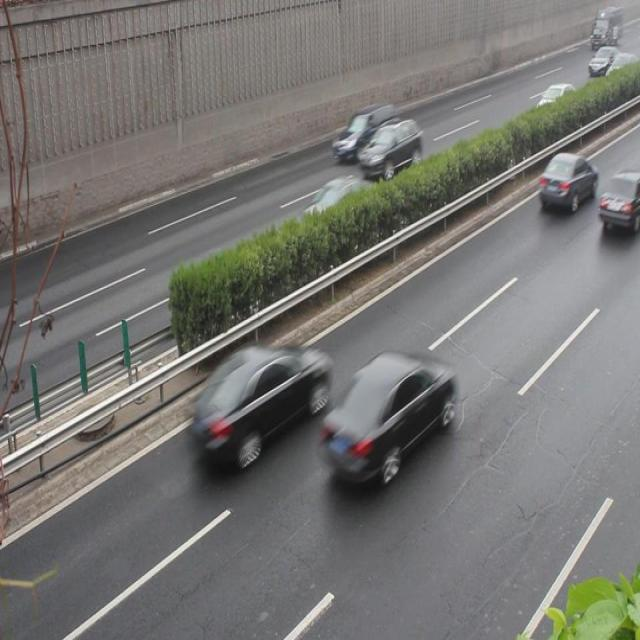car: (319, 352, 454, 484), (189, 347, 326, 462), (297, 174, 375, 240), (357, 119, 421, 176), (537, 152, 596, 212), (595, 170, 640, 232)
truck: (334, 102, 397, 160)
